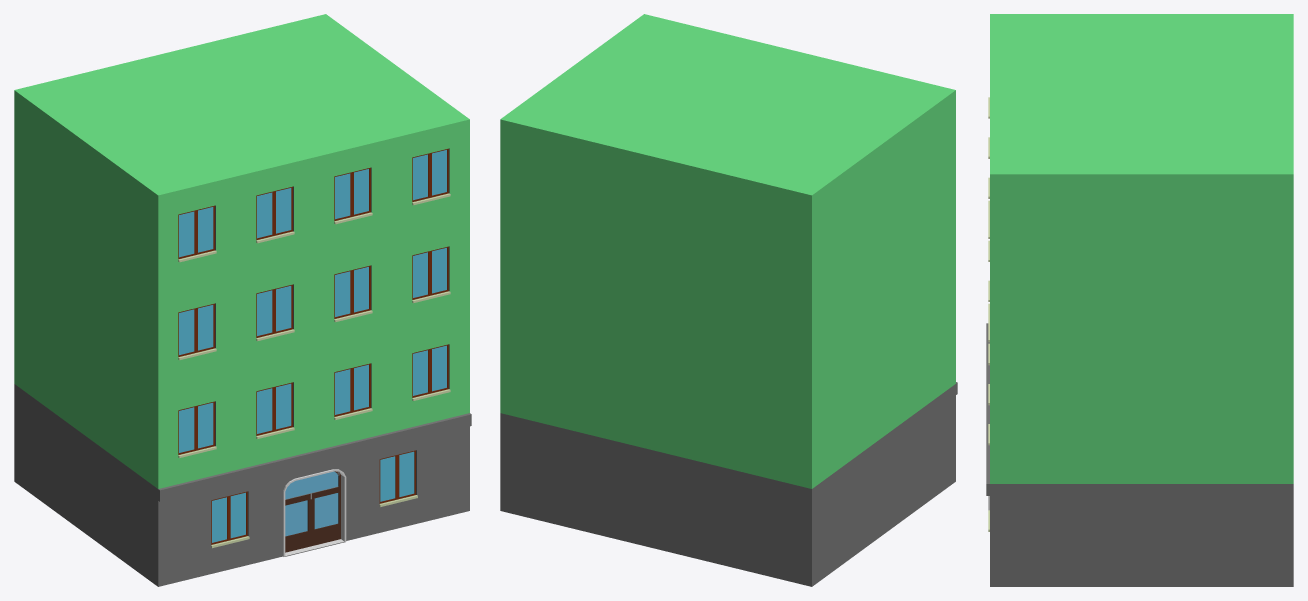
Rendered from SM_Building01.fbx.
3 renders of one model, left to right at view 1: azimuth 30°, elevation 25°; view 2: azimuth 150°, elevation 25°; view 3: azimuth 270°, elevation 25°, orthographic. The views are drawn at different scales.
Parts seen in each view (by area): view 1: SM_Building01; view 2: SM_Building01; view 3: SM_Building01.
Boxes of the visible parts, x1=… form: SM_Building01: x1=14, y1=14, x2=471, y2=586; SM_Building01: x1=500, y1=14, x2=957, y2=586; SM_Building01: x1=986, y1=14, x2=1293, y2=586.
Bounding box in the file's own units: 500 × 600 × 405.
